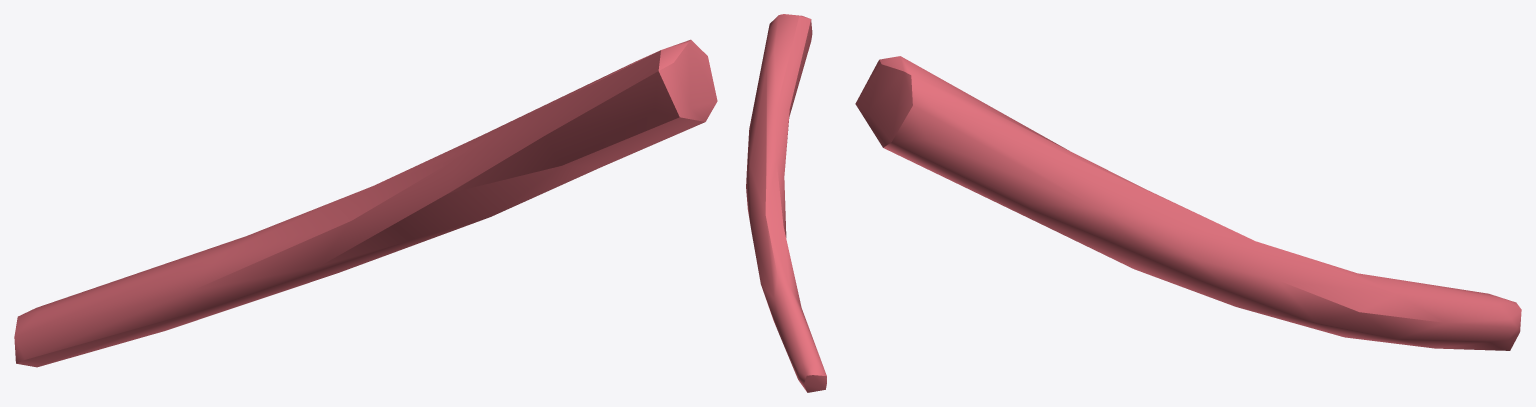
The model's file is fma9428_fj3044.glb.
3 renders of one model, left to right at view 1: azimuth 30°, elevation 25°; view 2: azimuth 150°, elevation 25°; view 3: azimuth 270°, elevation 25°, orthographic. The views are drawn at different scales.
Parts seen in each view (by area): view 1: FMA9428_FJ3044; view 2: FMA9428_FJ3044; view 3: FMA9428_FJ3044.
Part boxes in pixels (x1=…): FMA9428_FJ3044: x1=14, y1=39, x2=717, y2=367; FMA9428_FJ3044: x1=746, y1=14, x2=826, y2=392; FMA9428_FJ3044: x1=855, y1=56, x2=1521, y2=350.
Bounding box in the file's own units: 0.0139 × 0.0149 × 0.0199.
